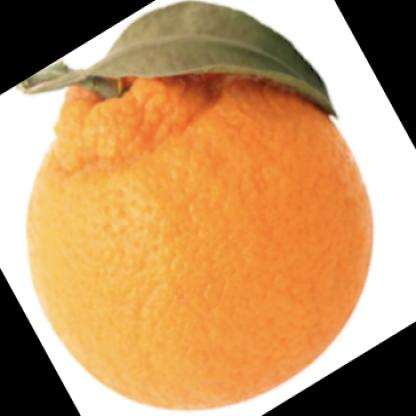fresh: (27, 34, 373, 404)
